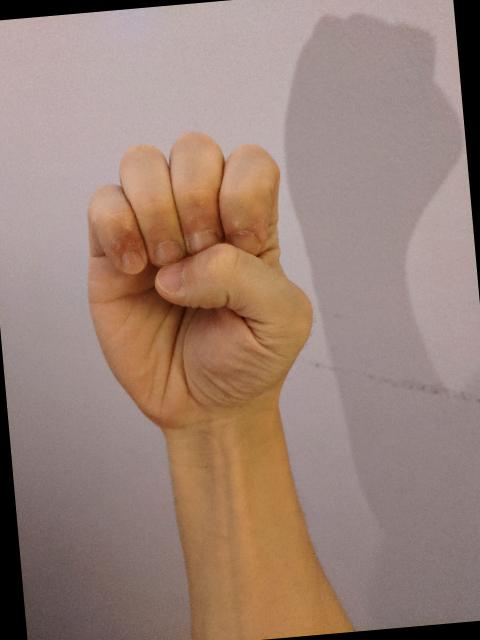E: (69, 118, 326, 442)
